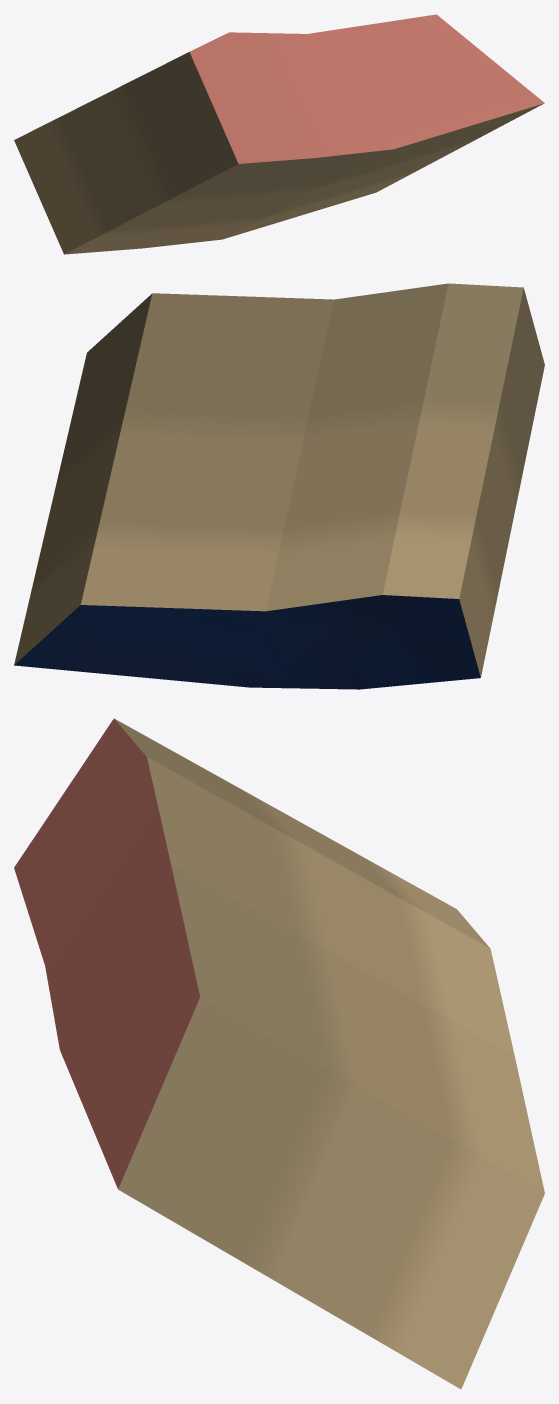
File: 0689_Lithuania.glb
3 renders of one model, top to bottom at view 1: azimuth 30°, elevation 25°; view 2: azimuth 150°, elevation 25°; view 3: azimuth 270°, elevation 25°, orthographic. The views are drawn at different scales.
Parts seen in each view (by area): view 1: part_0; view 2: part_0; view 3: part_0.
Part boxes in pixels (x1,y1,x2,y2): part_0: [14, 14, 544, 254]; part_0: [14, 283, 544, 689]; part_0: [14, 718, 544, 1389].
Bounding box in the file's own units: 0.3269 × 0.2236 × 0.2393.
Materials: 1 (1 with a texture image).
